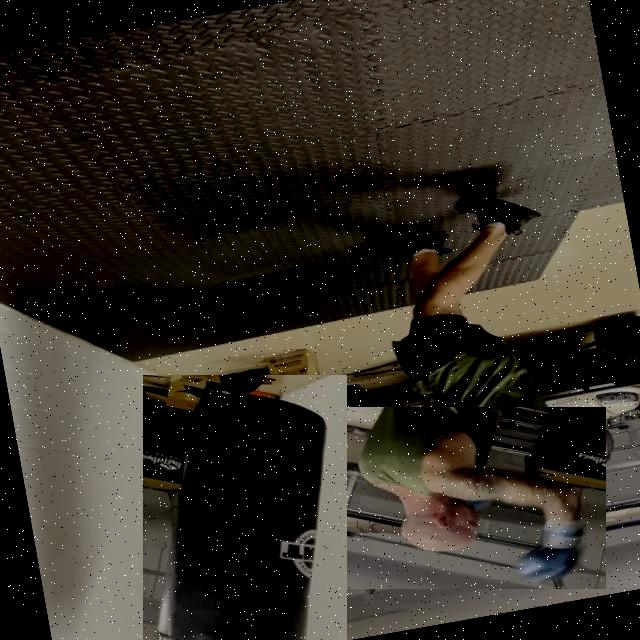punch: (326, 407, 606, 589)
